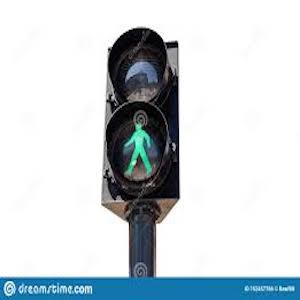green: (115, 118, 155, 181)
